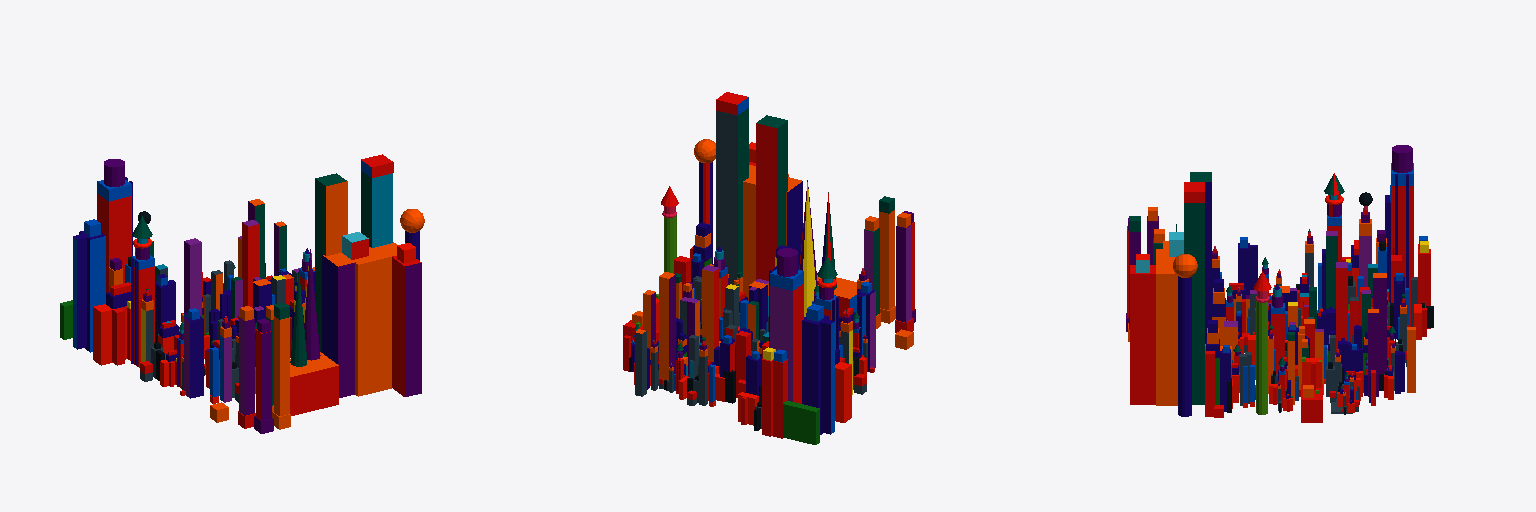
The picture shows the model from 3 angles: view 1: azimuth 30°, elevation 25°; view 2: azimuth 150°, elevation 25°; view 3: azimuth 270°, elevation 25°; orthographic projection.
Visible parts, largest first — view 1: group[number redacted], group[number redacted], group[number redacted], group[number redacted], group[number redacted], group[number redacted], group[number redacted], group[number redacted], group[number redacted], group[number redacted], group[number redacted], group[number redacted] (+16 smaller); view 2: group[number redacted], group[number redacted], group[number redacted], group[number redacted], group[number redacted], group[number redacted], group[number redacted], group[number redacted], group[number redacted], group[number redacted], group[number redacted], group[number redacted] (+14 smaller); view 3: group[number redacted], group[number redacted], group[number redacted], group[number redacted], group[number redacted], group[number redacted], group[number redacted], group[number redacted], group[number redacted], group[number redacted], group[number redacted], group[number redacted] (+5 smaller).
Part boxes in pixels (bbox=[...]): group[number redacted]: bbox=[355, 242, 396, 396]; group[number redacted]: bbox=[322, 247, 387, 397]; group[number redacted]: bbox=[392, 256, 421, 396]; group[number redacted]: bbox=[315, 173, 347, 352]; group[number redacted]: bbox=[290, 352, 338, 415]; group[number redacted]: bbox=[361, 171, 392, 247]; group[number redacted]: bbox=[97, 194, 131, 292]; group[number redacted]: bbox=[79, 231, 105, 352]; group[number redacted]: bbox=[73, 234, 86, 349]; group[number redacted]: bbox=[184, 316, 203, 398]; group[number redacted]: bbox=[274, 316, 289, 415]; group[number redacted]: bbox=[239, 317, 254, 415]; group[number redacted]: bbox=[756, 115, 787, 280]; group[number redacted]: bbox=[716, 108, 748, 284]; group[number redacted]: bbox=[770, 284, 803, 403]; group[number redacted]: bbox=[743, 169, 802, 300]; group[number redacted]: bbox=[659, 272, 675, 380]; group[number redacted]: bbox=[802, 315, 828, 434]; group[number redacted]: bbox=[821, 319, 834, 434]; group[number redacted]: bbox=[896, 224, 911, 322]; group[number redacted]: bbox=[879, 210, 894, 309]; group[number redacted]: bbox=[702, 265, 718, 361]; group[number redacted]: bbox=[783, 401, 819, 444]; group[number redacted]: bbox=[799, 180, 817, 316]; group[number redacted]: bbox=[1130, 265, 1155, 404]; group[number redacted]: bbox=[1156, 249, 1177, 405]; group[number redacted]: bbox=[1184, 203, 1204, 404]; group[number redacted]: bbox=[1178, 276, 1191, 416]; group[number redacted]: bbox=[1391, 186, 1413, 326]; group[number redacted]: bbox=[1256, 301, 1267, 414]; group[number redacted]: bbox=[1190, 172, 1211, 343]; group[number redacted]: bbox=[1373, 273, 1386, 373]; group[number redacted]: bbox=[1336, 262, 1347, 351]; group[number redacted]: bbox=[1326, 231, 1337, 308]; group[number redacted]: bbox=[1368, 309, 1378, 396]; group[number redacted]: bbox=[1418, 249, 1430, 328].
Bounding box in the file's own units: 8.35 × 6.96 × 9.05.